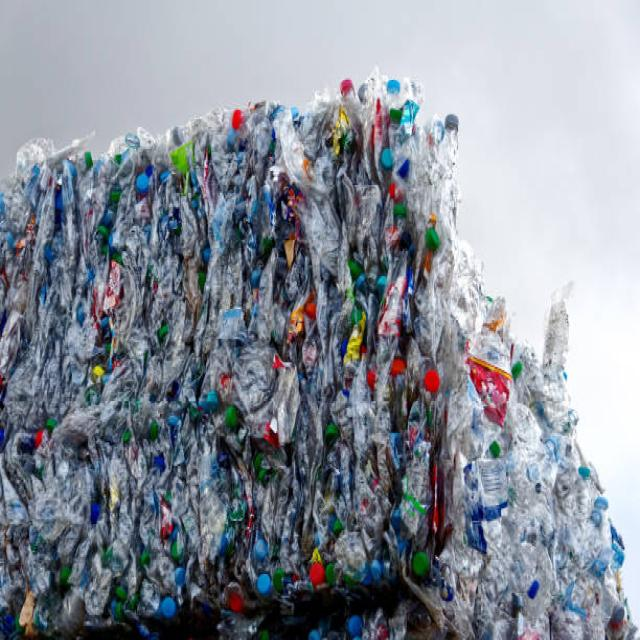plastic: (16, 149, 623, 606)
